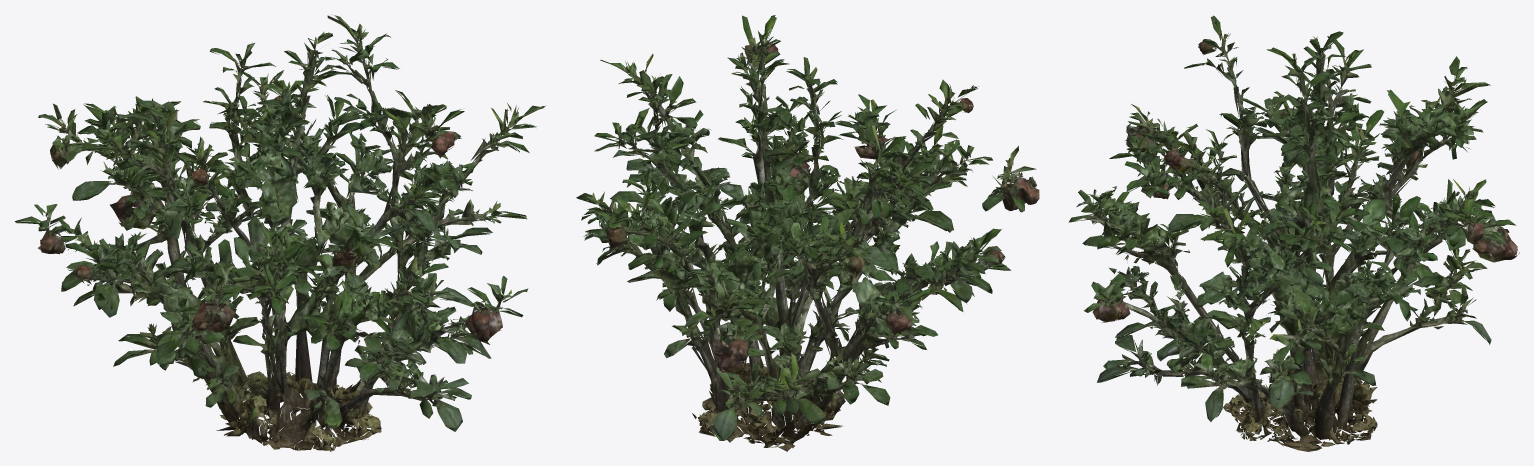
The model's file is poosas_high.glb.
3 views of the same model, side by side, from view 1: azimuth 30°, elevation 25°; view 2: azimuth 150°, elevation 25°; view 3: azimuth 270°, elevation 25° (orthographic). The views are drawn at different scales.
Visible parts, largest first — view 1: world; view 2: world; view 3: world.
Part boxes in pixels (left/top/right/bottom): world: left=15, top=14, right=545, bottom=451; world: left=576, top=15, right=1039, bottom=451; world: left=1068, top=15, right=1519, bottom=451.
Size of the model in its own units: 1.17 by 1.01 by 1.08.
1 material, 1 textured.
